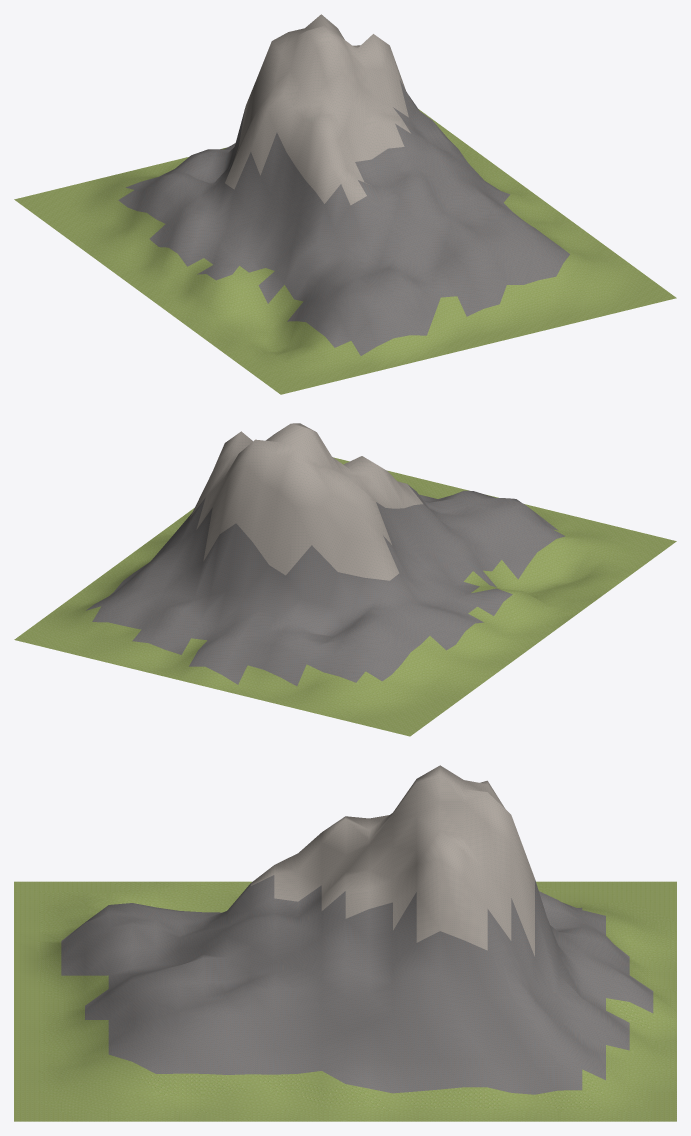
Rendered from mountain.glb.
The picture shows the model from 3 angles, top to bottom: view 1: azimuth 30°, elevation 25°; view 2: azimuth 150°, elevation 25°; view 3: azimuth 270°, elevation 25°; orthographic projection. The views are drawn at different scales.
Visible parts, largest first — view 1: _(Loose Entity); view 2: _(Loose Entity); view 3: _(Loose Entity).
Boxes of the visible parts, x1,y1,x2,y2 form: _(Loose Entity): (14,14,676,394); _(Loose Entity): (14,423,676,736); _(Loose Entity): (14,765,676,1121).
Size of the model in its own units: 73.15 by 35.65 by 85.34.
3 materials, 3 textured.
